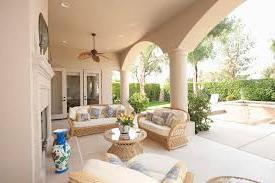chair: (73, 151, 203, 183)
door: (49, 68, 65, 121), (64, 70, 83, 110), (82, 70, 101, 108)
fan: (76, 32, 113, 67)
light: (55, 0, 74, 11), (56, 39, 71, 45), (129, 21, 137, 30), (118, 33, 126, 40)
sofa: (133, 104, 193, 153), (66, 102, 132, 137)
table: (103, 126, 148, 159)
